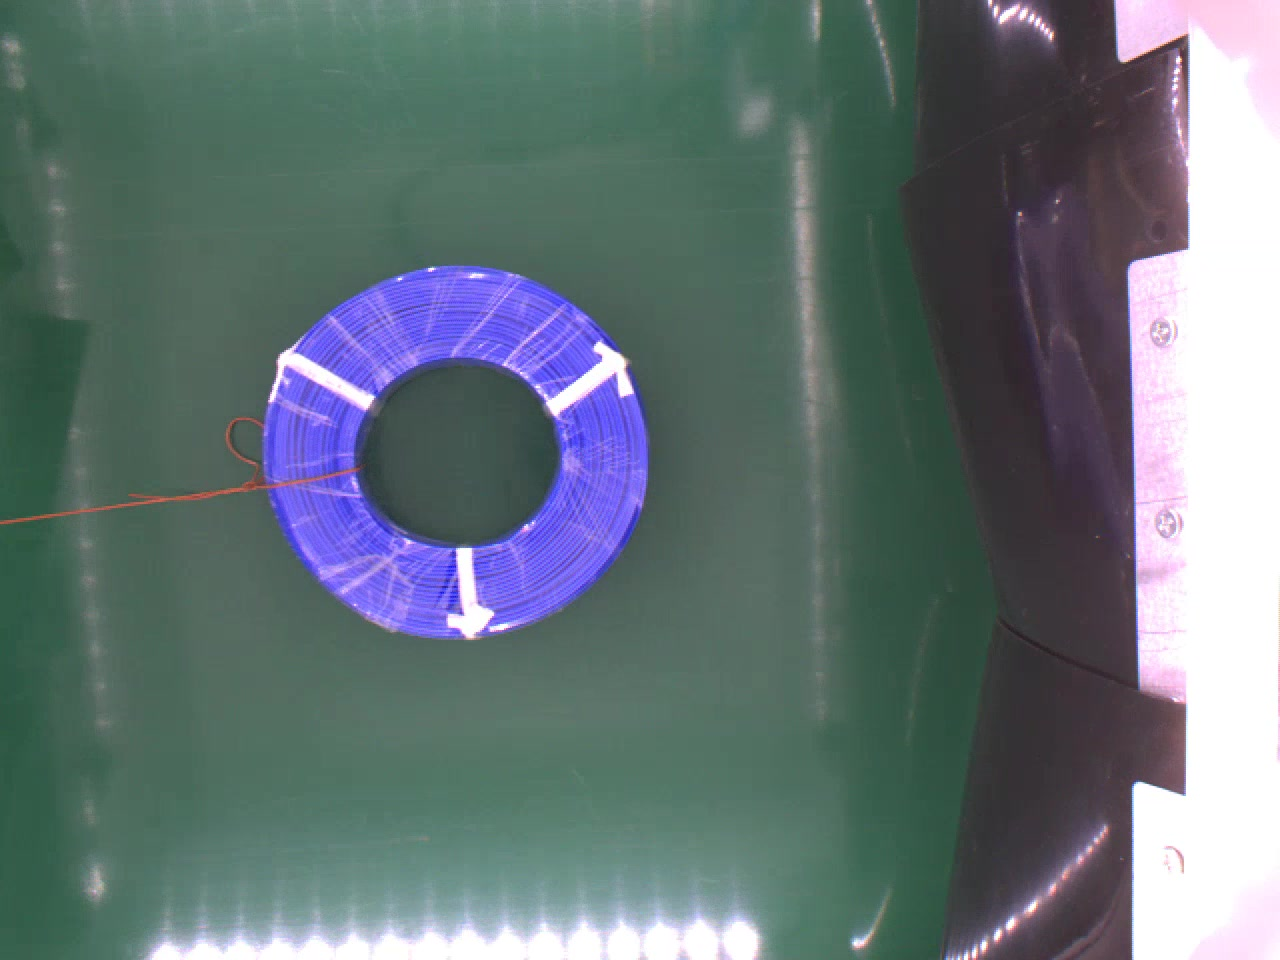blue: (260, 260, 652, 638)
